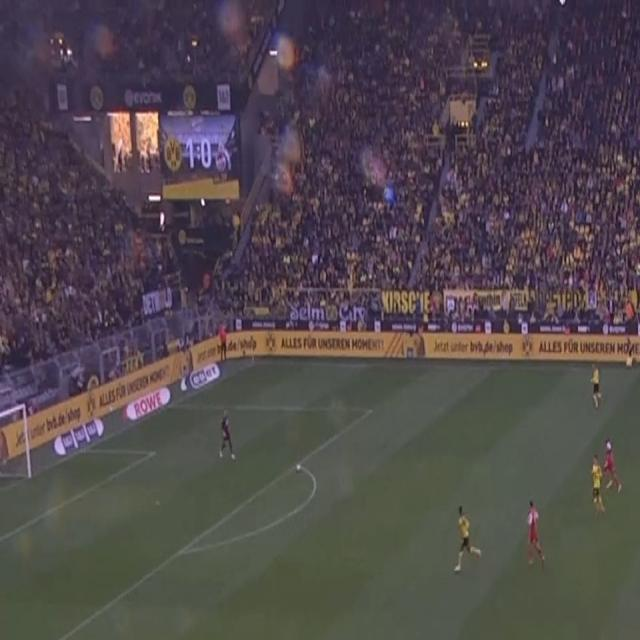ball: (295, 462, 302, 474)
